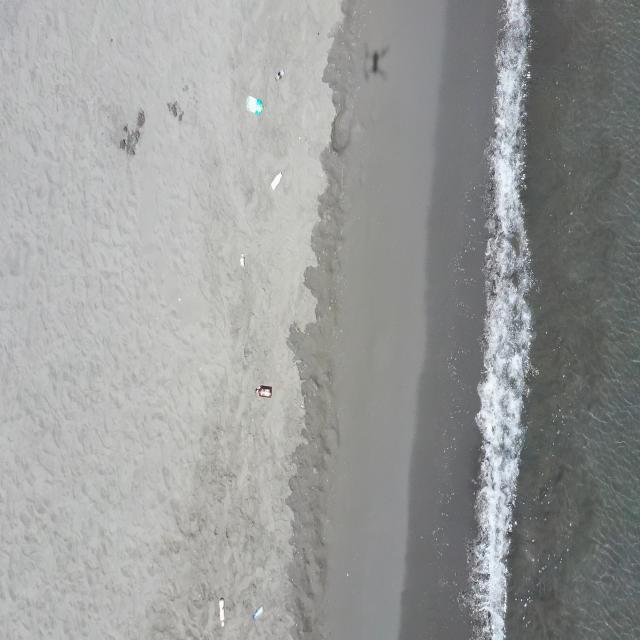Garbage: (120, 108, 143, 154), (168, 100, 183, 120), (247, 96, 263, 114), (256, 384, 271, 396), (271, 173, 281, 190), (253, 606, 263, 620), (219, 597, 223, 626), (276, 68, 283, 80), (240, 252, 244, 267)
